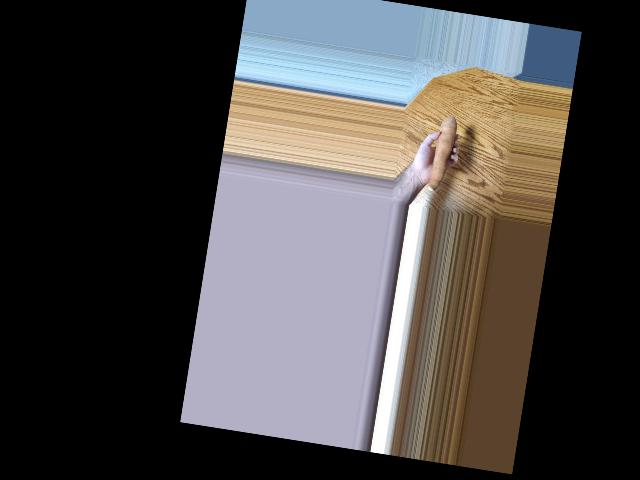sweet_potato: (429, 111, 464, 191)
